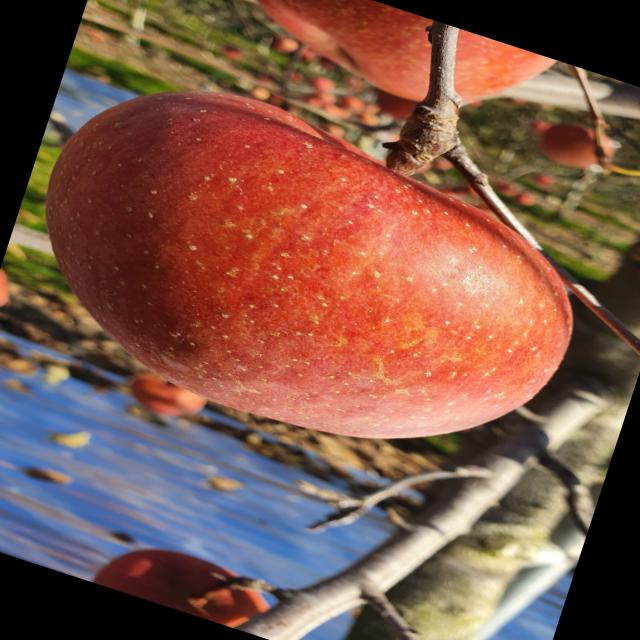fresh: (1, 33, 633, 517)
